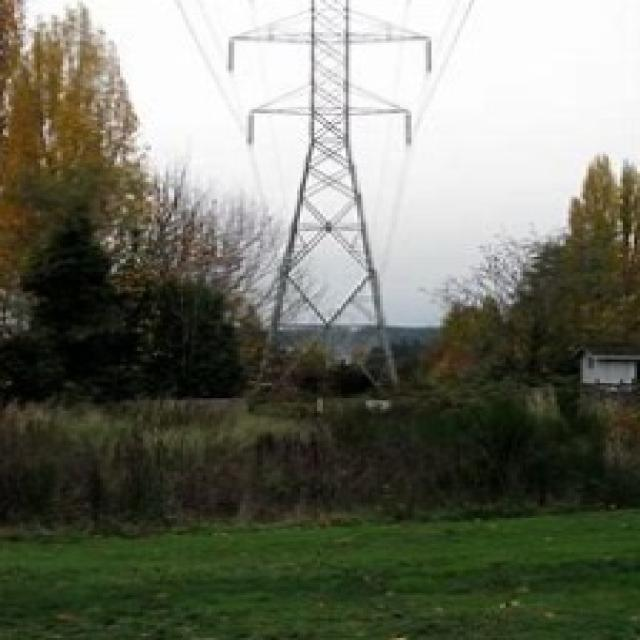utility poles: (106, 117, 319, 441), (325, 118, 538, 442)
